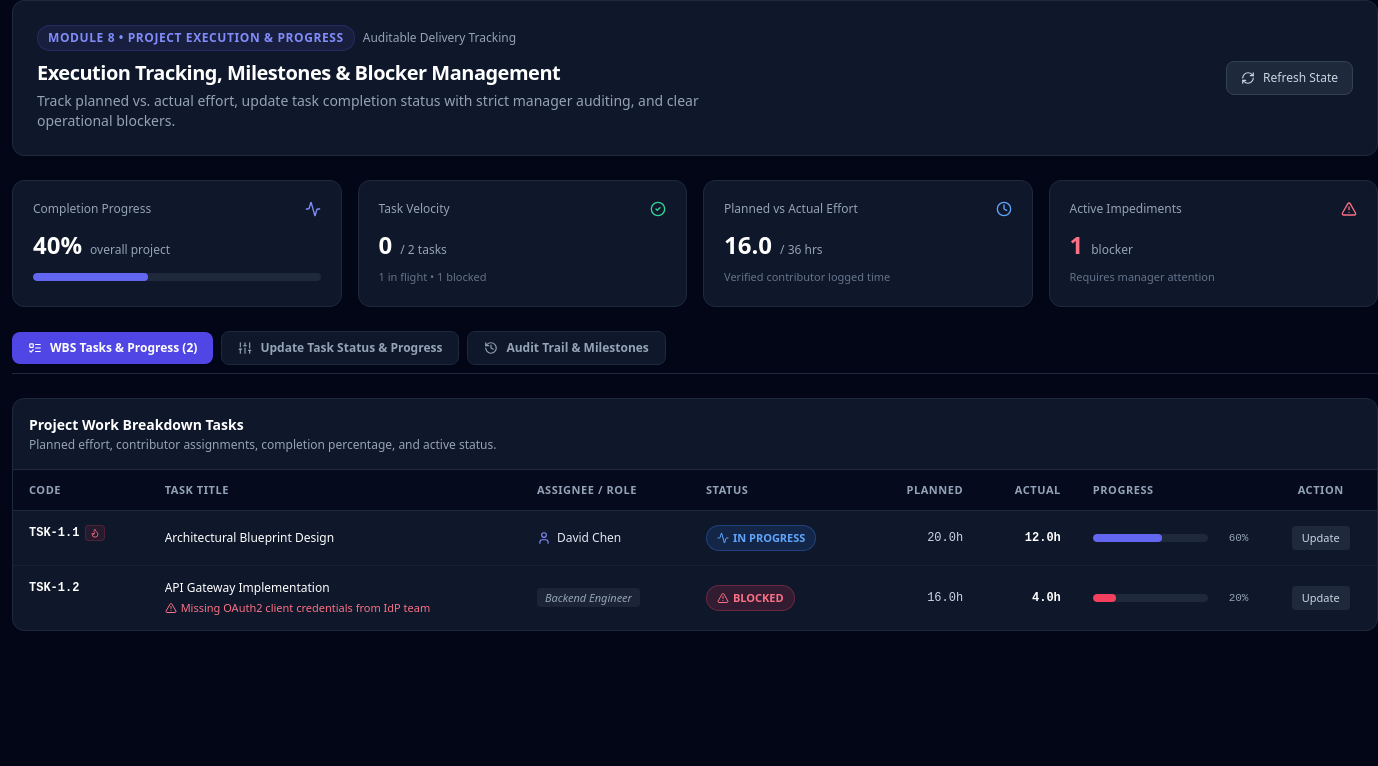
ExecutionView Component › clicking update button selects task and switches to update form
The width and height of the screenshot is (1378, 766).
Click the button "Update" in the row of "TSK-1.1": click(1321, 538) [1292, 526, 1350, 550]
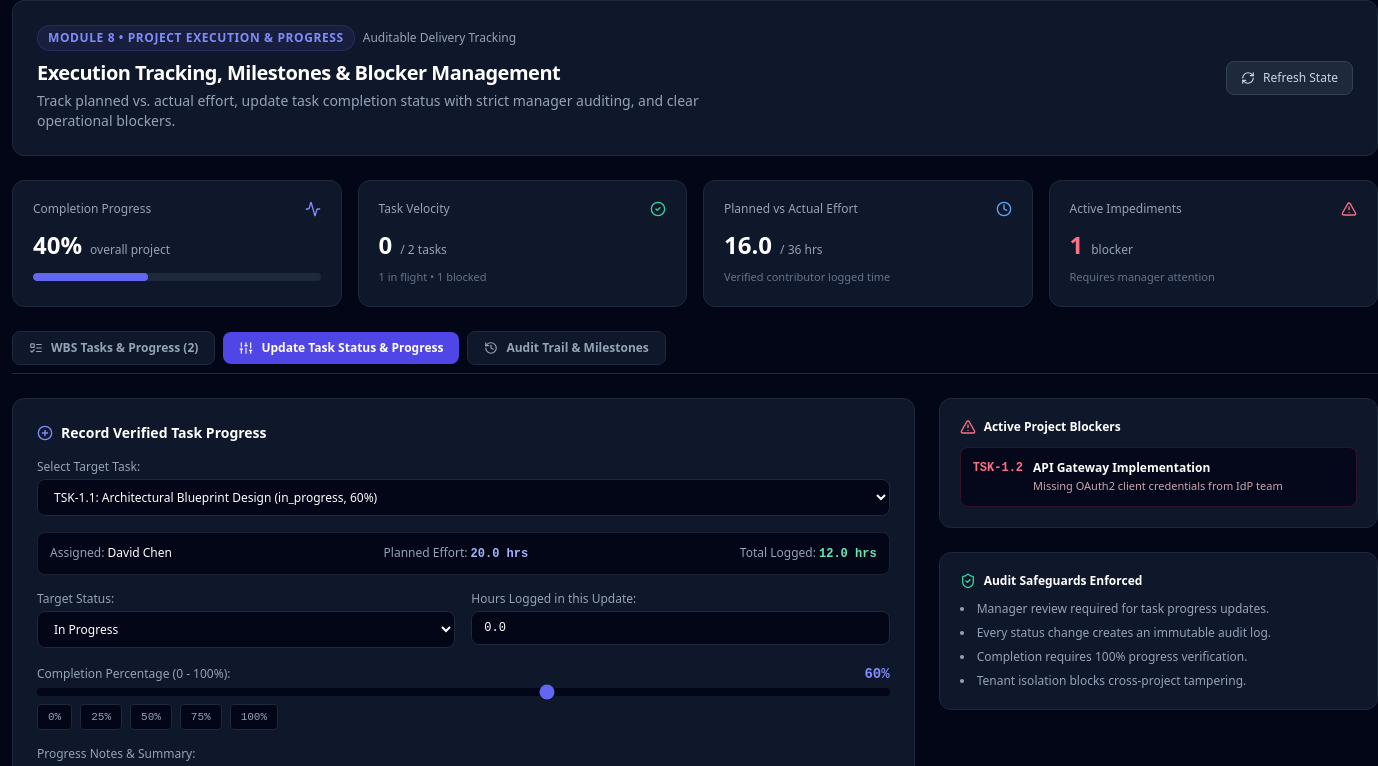
expect the heading "Record Verified Task Progress" is shown: met, box [61, 422, 266, 442]
